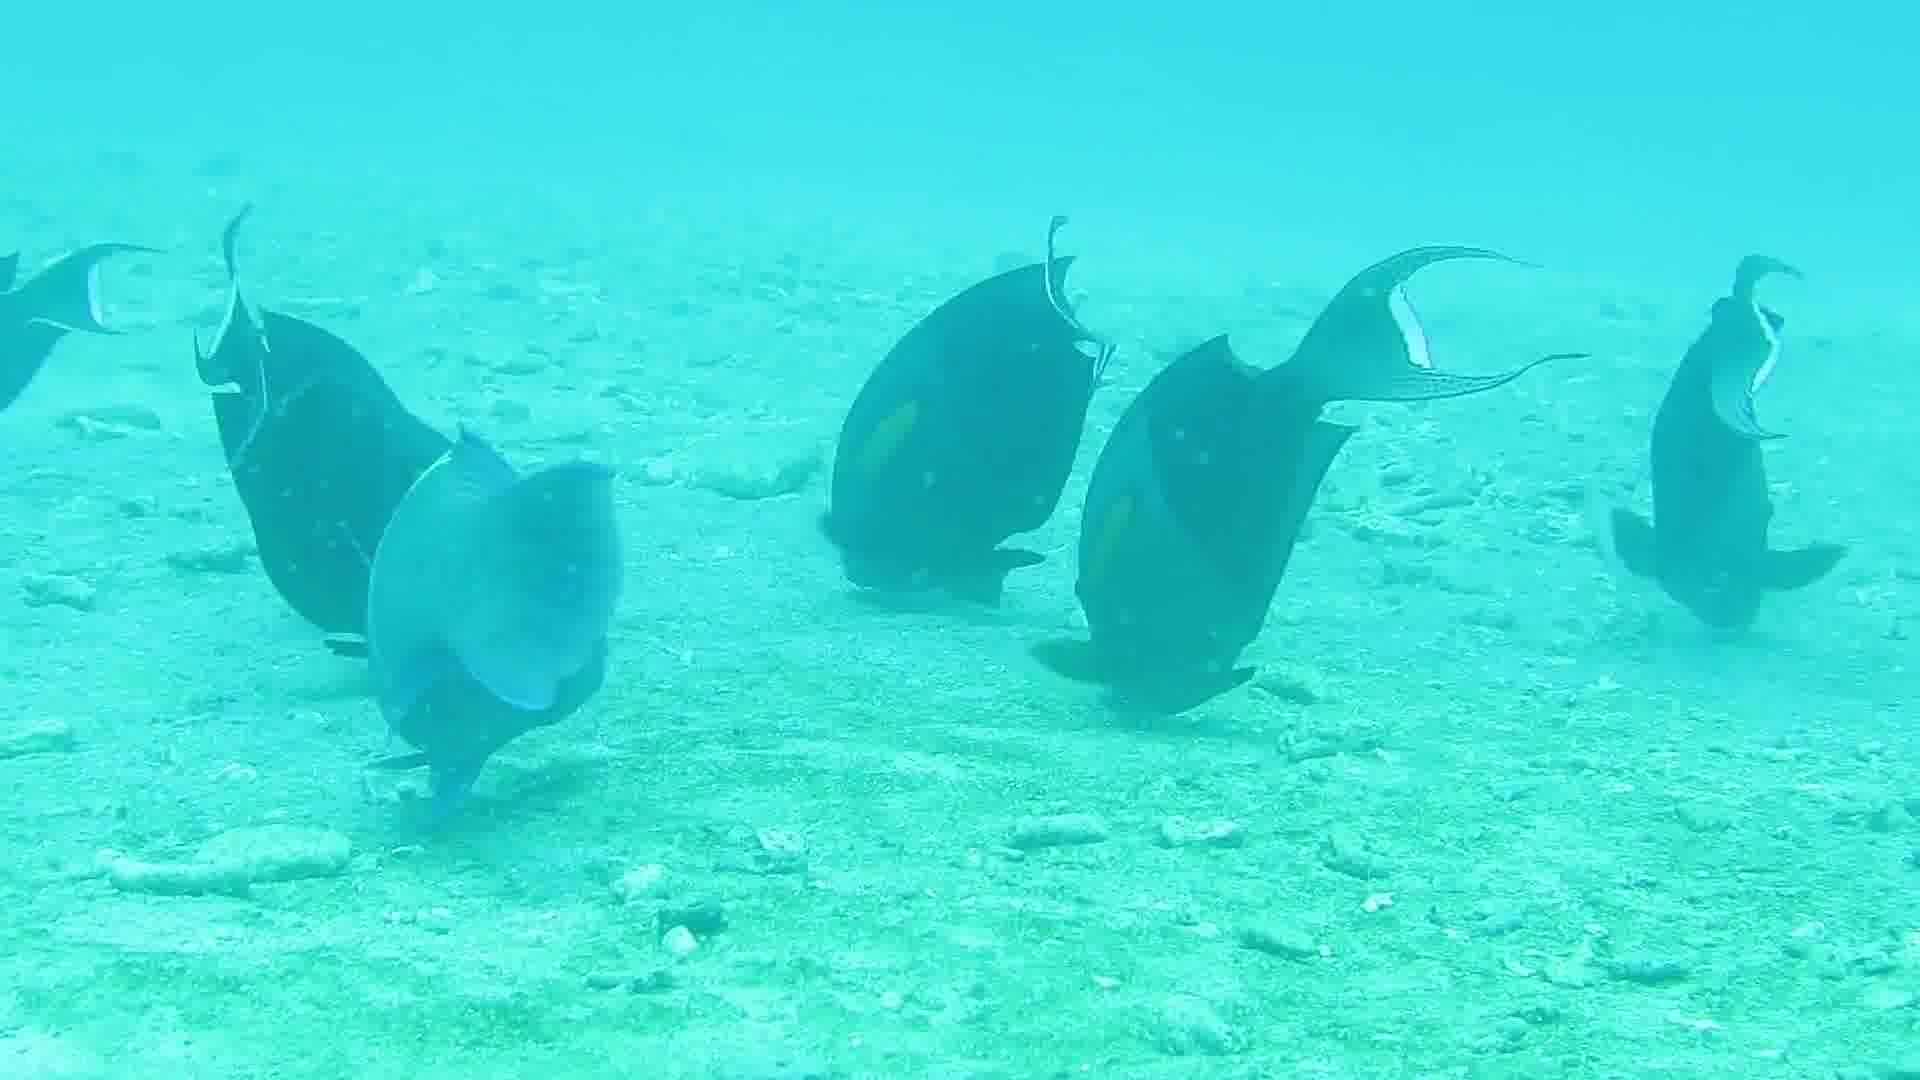Acanthurus olivaceus: (1069, 284, 1425, 738), (164, 229, 520, 684), (1544, 245, 1899, 700), (810, 211, 1164, 666), (349, 381, 704, 836)
